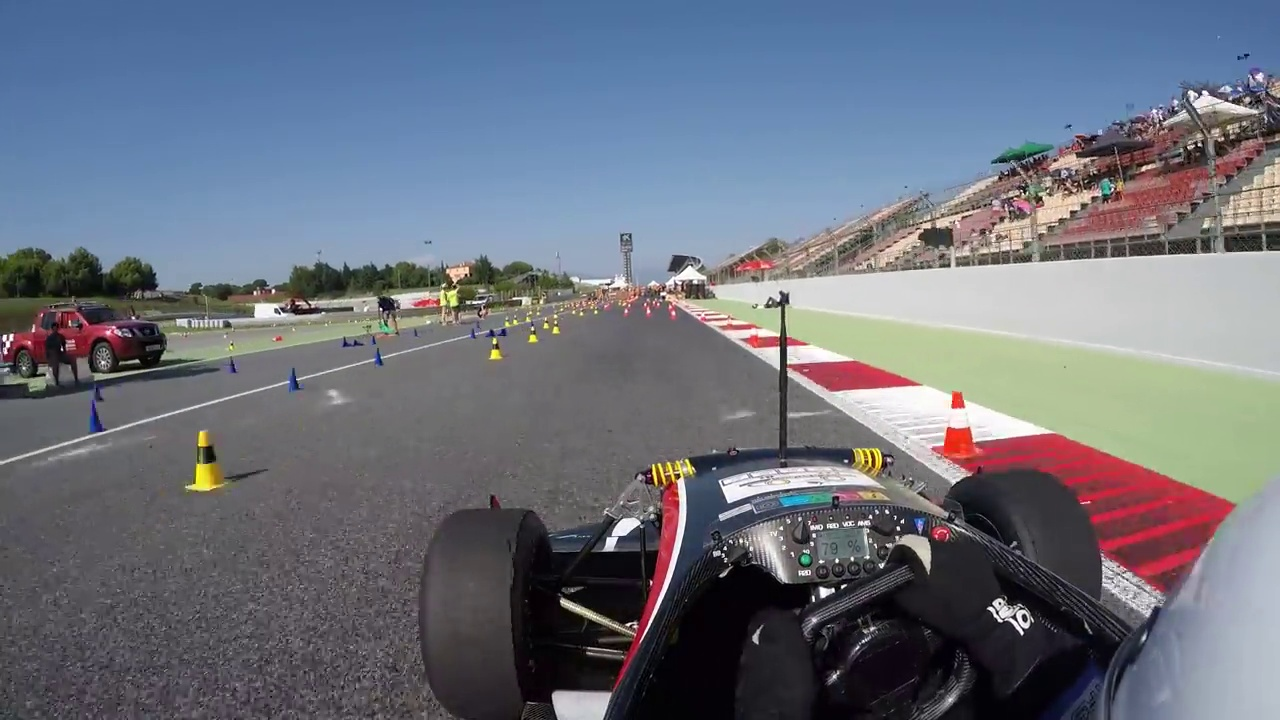Cone: (939, 388, 982, 458), (190, 430, 229, 491), (82, 399, 107, 434), (486, 331, 508, 361)
